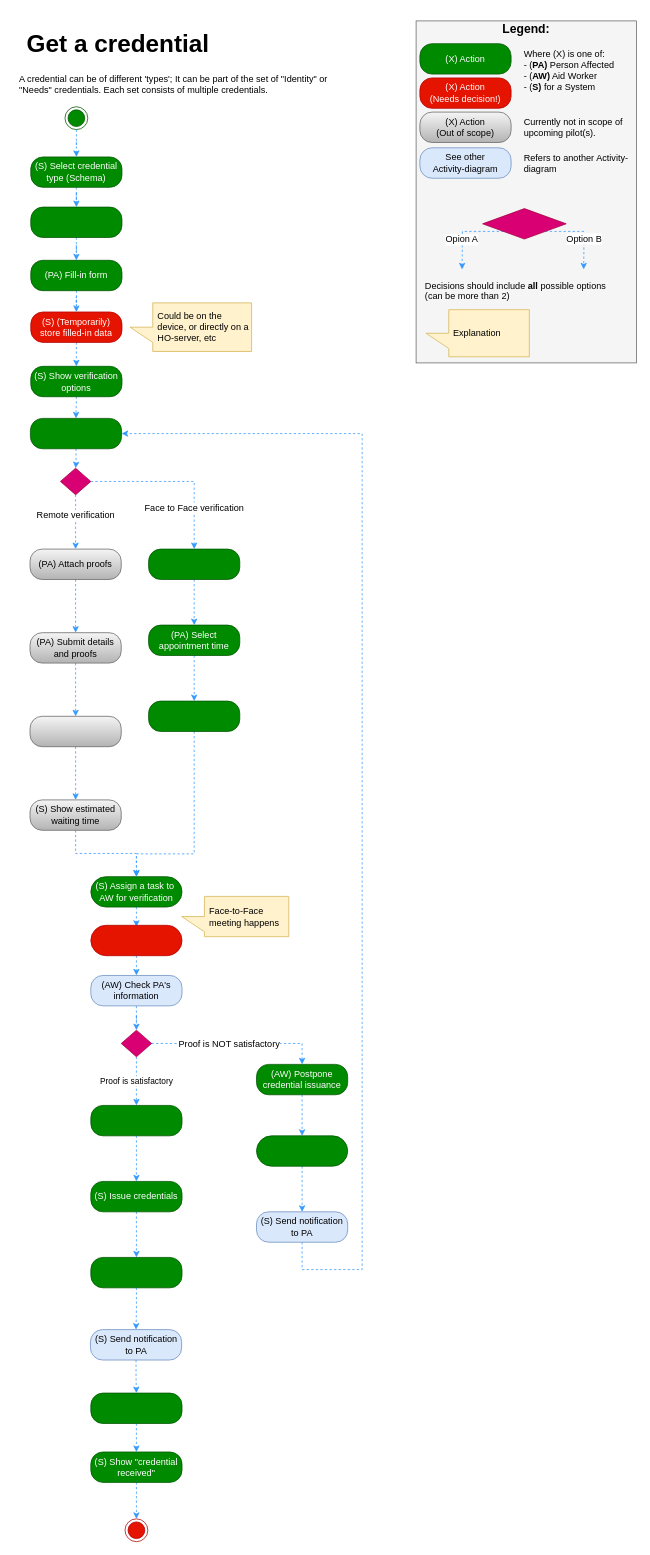
Some shapes in this 650 by 1555 pixel diagram are drawn without their labels. Each missing label, with the centre of its shape:
(AW) Confirm credential issuance: [136,1120]
(AW) Explain what is missing/insufficient: [302,1150]
(PA) Select verification type: [76,433]
(S) Delete data from temporary storage: [136,1407]
(S) Display credential fill-in form: [76,222]
(S) Display possible appointment times: [194,564]
(S) Record appointment: [194,716]
(S) Send credentials to PA: [136,1272]
(S) Store details and proofs temporarily: [75,731]
(S) Transfer details from PA to AW: [136,940]
(X) Decision: [524,223]
